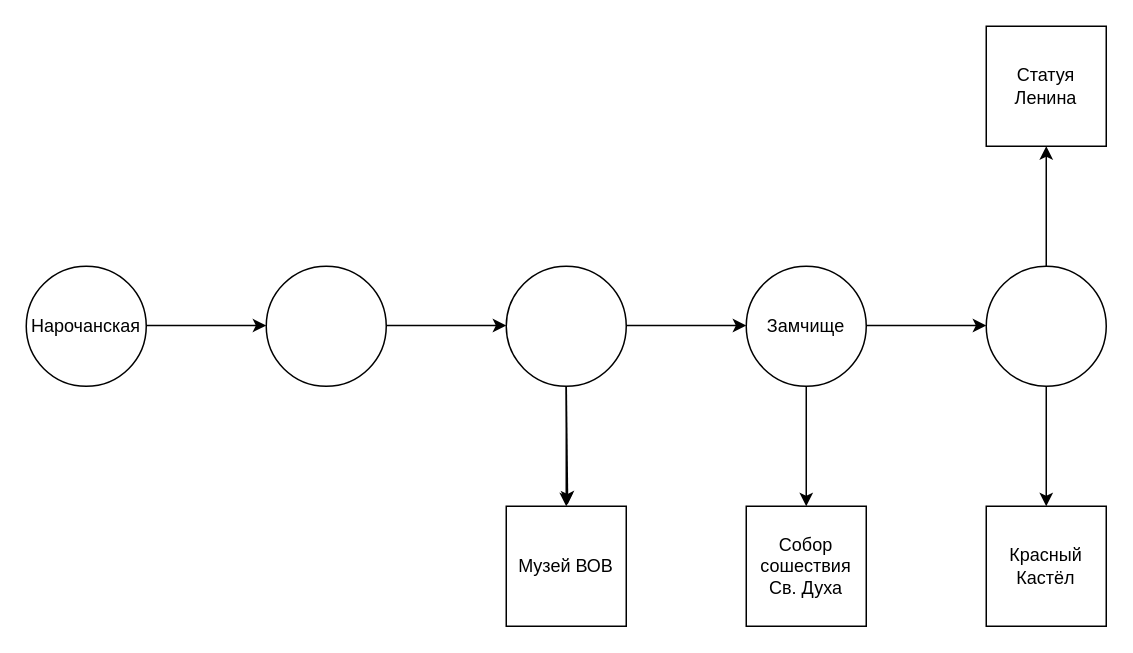
Image size: 1133x653. Some labels were removed from this diagram. The centre of each missing label's shape, as x and y in pixels:
"Комсомольское озеро" goes at (x=565, y=325).
"Ленина" goes at (x=1045, y=325).
"Университет физкультуры" goes at (x=325, y=325).
